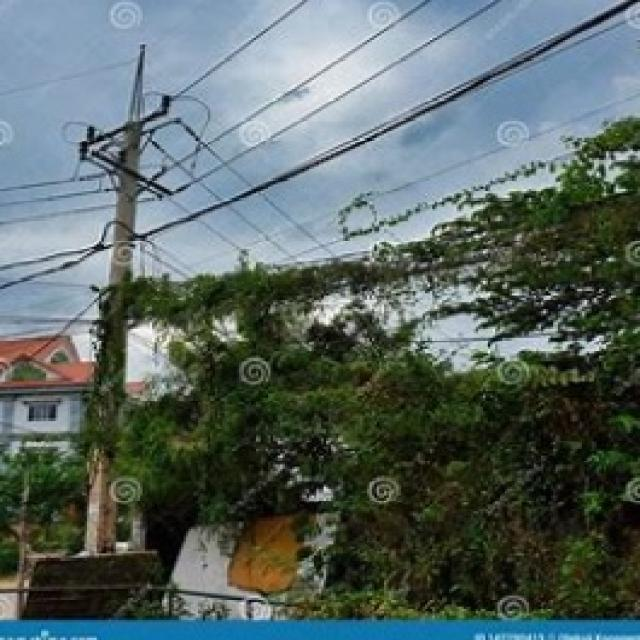critical vegetation: (90, 230, 636, 390)
